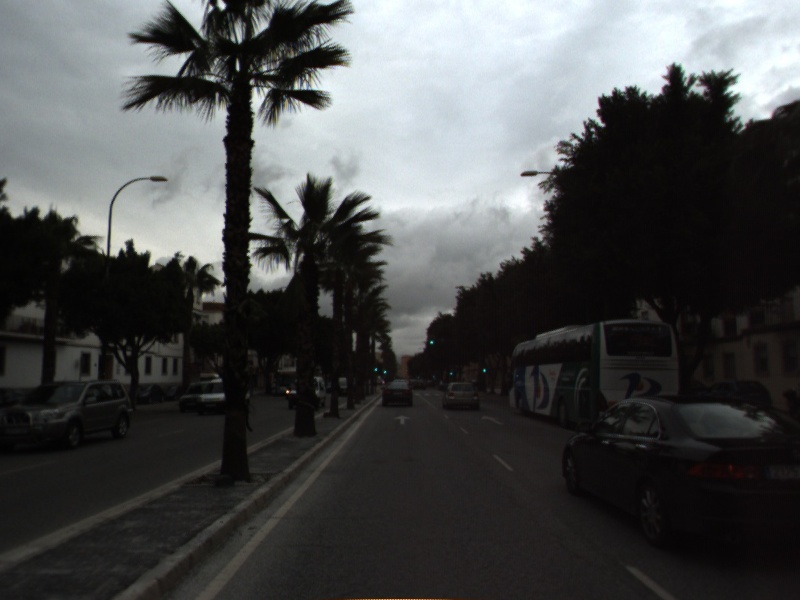STRAIGHT: (479, 413, 506, 428), (391, 412, 413, 427)
